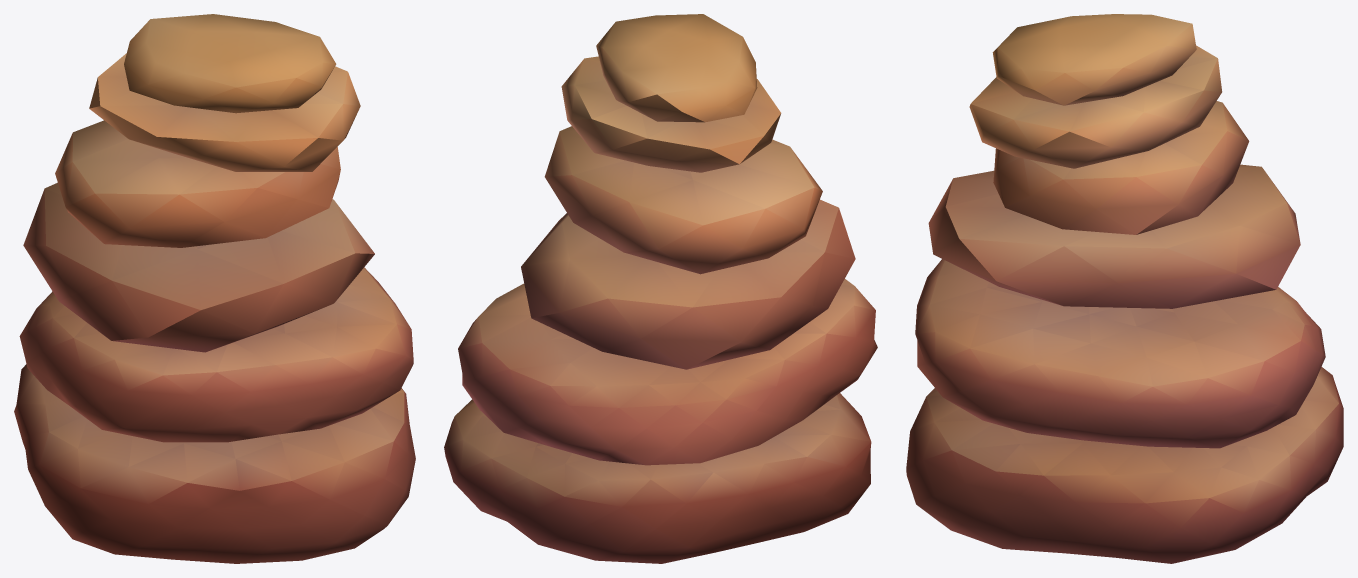
File: amber_rock_cairn_a.glb
3 renders of one model, left to right at view 1: azimuth 30°, elevation 25°; view 2: azimuth 150°, elevation 25°; view 3: azimuth 270°, elevation 25°, orthographic. The views are drawn at different scales.
Visible parts, largest first — view 1: amber_rock_cairn_a; view 2: amber_rock_cairn_a; view 3: amber_rock_cairn_a.
Boxes of the visible parts, x1,y1,x2,y2 form: amber_rock_cairn_a: [14, 14, 415, 563]; amber_rock_cairn_a: [444, 14, 877, 563]; amber_rock_cairn_a: [906, 14, 1343, 563].
Bounding box in the file's own units: 1.34 × 1.59 × 1.36.
